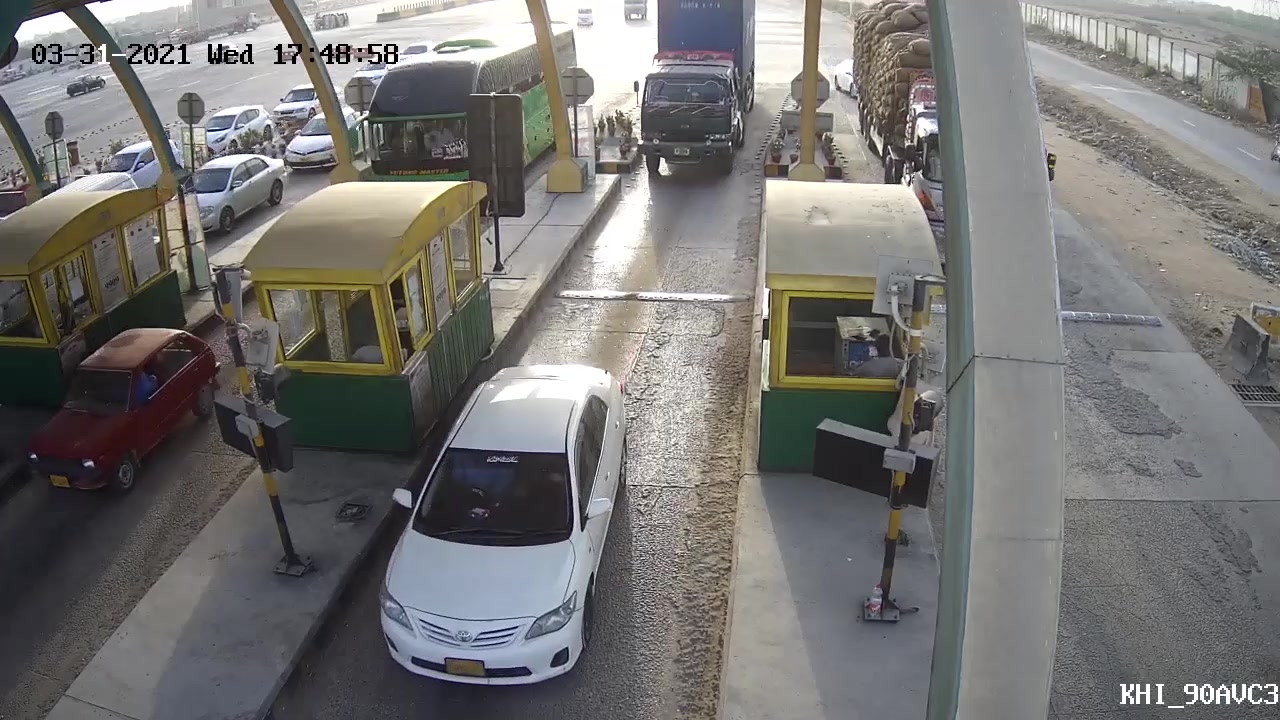F1: (373, 352, 639, 690)
F6: (630, 1, 761, 179)
